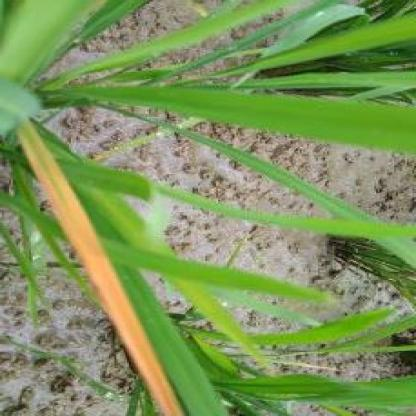Tungro: (16, 115, 190, 416)
